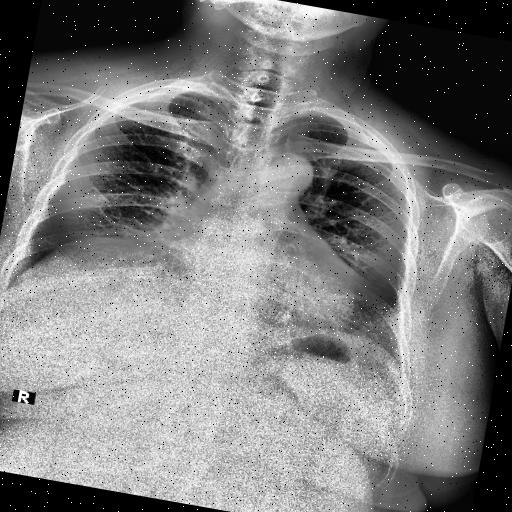0- Aortic enlargement: (258, 150, 315, 208), (254, 147, 316, 198), (262, 148, 317, 202)
3- Cardiomegaly: (128, 224, 363, 354), (152, 220, 361, 346), (155, 227, 363, 331)
